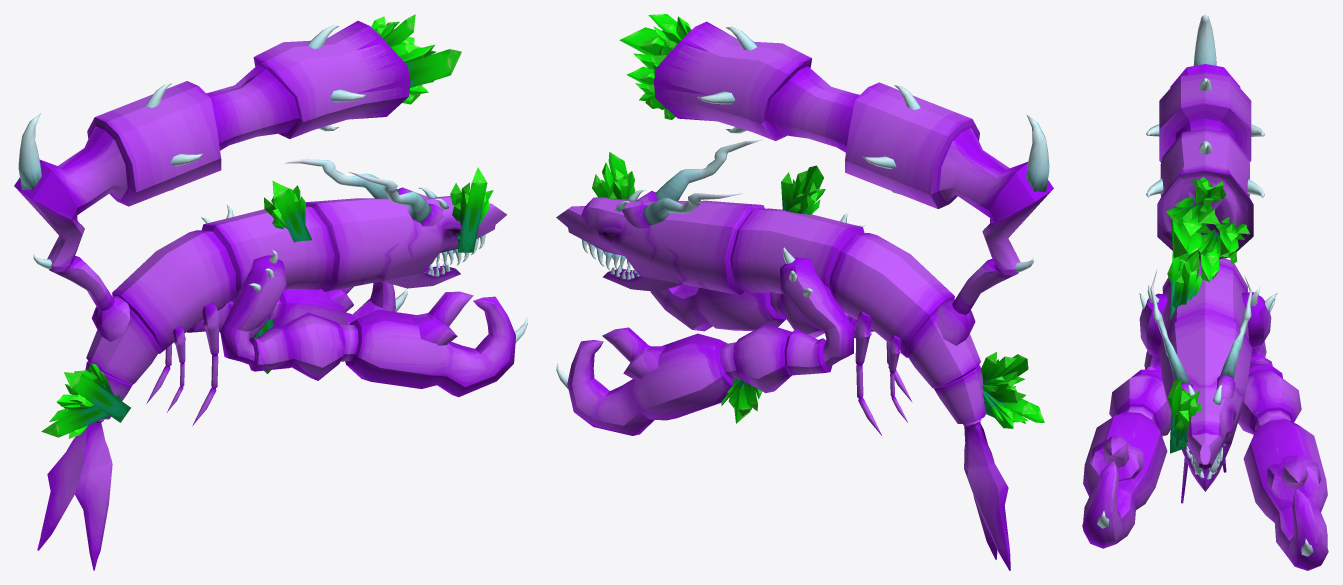
Rendered from Shrimp.fbx.
3 views of the same model, side by side, from view 1: azimuth 30°, elevation 25°; view 2: azimuth 150°, elevation 25°; view 3: azimuth 270°, elevation 25° (orthographic).
Visible parts, largest first — view 1: s.body, Cylinder.006; view 2: s.body, Cylinder.006; view 3: s.body, Cylinder.006.
Part boxes in pixels (x1,y1,x2,y2): s.body: [14, 20, 515, 419]; Cylinder.006: [18, 14, 527, 570]; s.body: [556, 21, 1053, 435]; Cylinder.006: [556, 14, 1049, 570]; s.body: [1082, 64, 1328, 570]; Cylinder.006: [1097, 14, 1313, 556].
Bounding box in the file's own units: 620 × 577 × 266.
